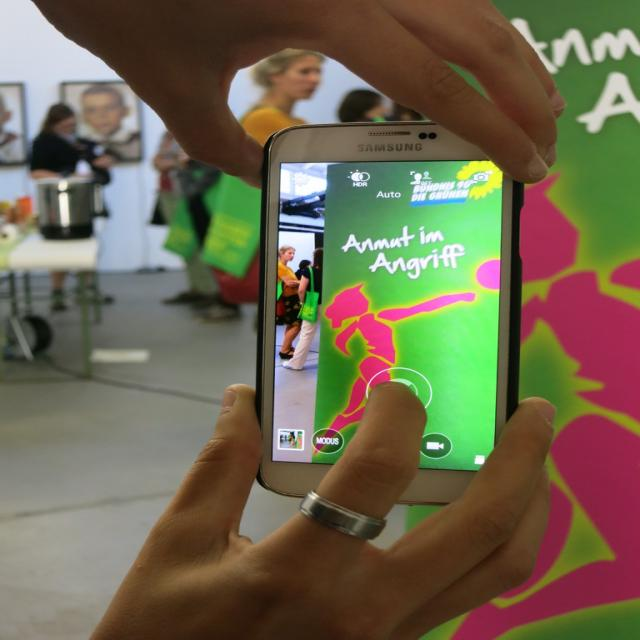Mobile-phone: (238, 92, 528, 553)
